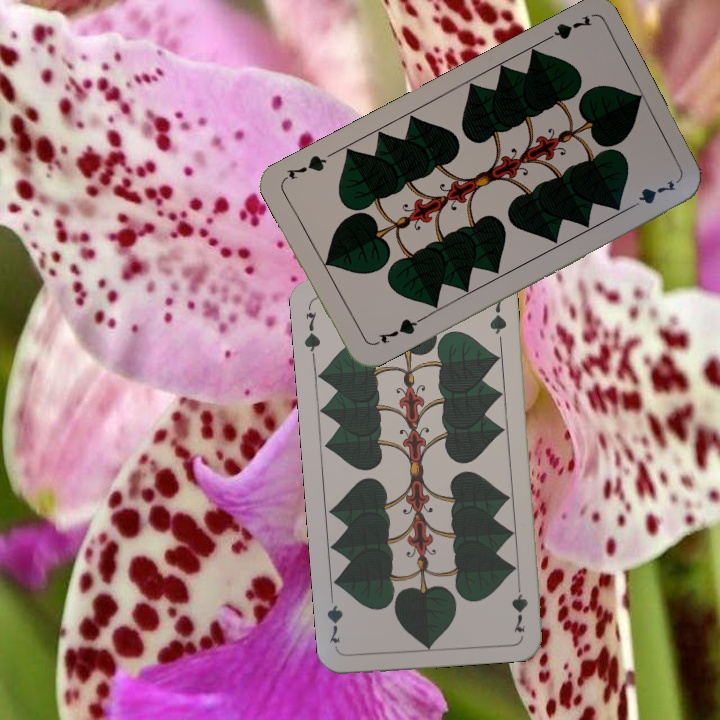G7: (537, 11, 595, 46), (368, 314, 423, 349), (507, 576, 531, 635), (300, 301, 323, 360)
